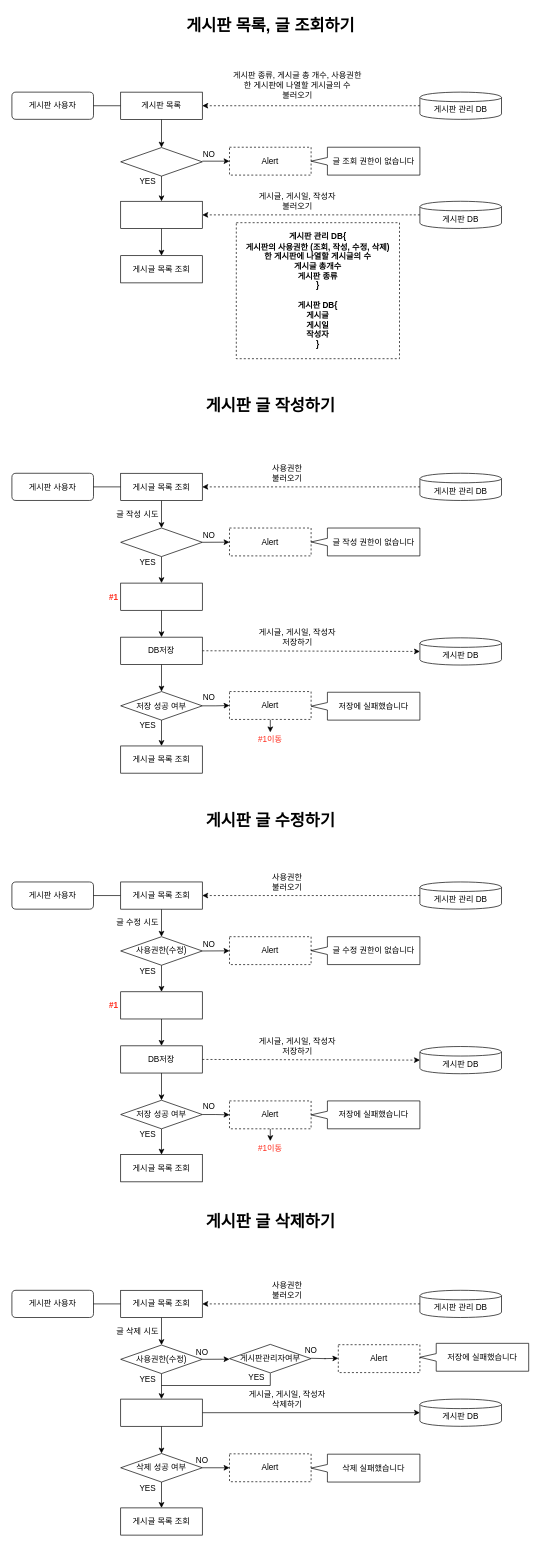
Some shapes in this 541 by 1547 pixel diagram are drawn without their labels. Each missing label, with the centre of its shape:
"게시글 목록" belongs at point 161,214.
"게시글 삭제" belongs at point 161,1412.
"글 수정" belongs at point 161,1005.
"글 작성" belongs at point 161,596.
"사용권한(작성)" belongs at point 161,542.
"사용권한(조회)" belongs at point 161,161.
